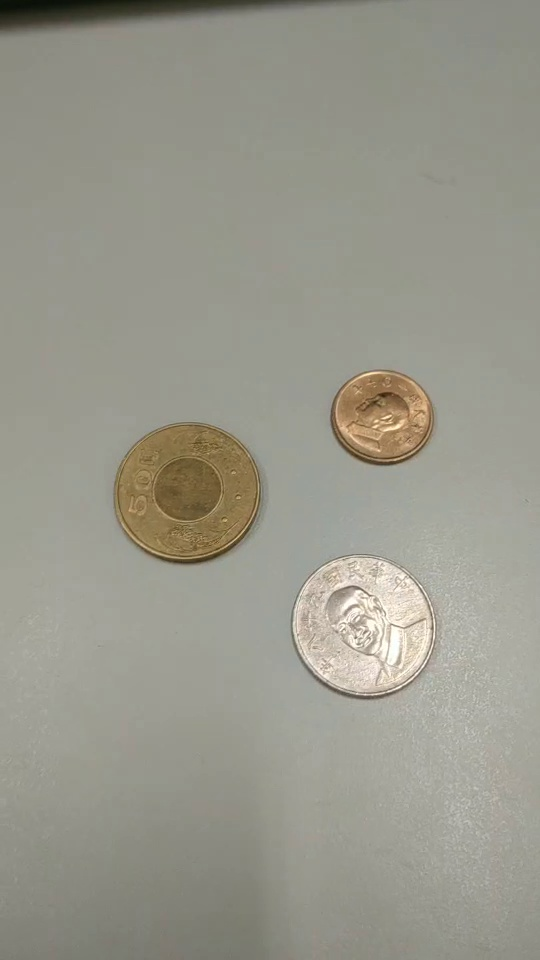NT$ 1: (329, 369, 436, 465)
NT$ 10: (292, 556, 439, 699)
NT$ 50: (112, 422, 264, 565)
